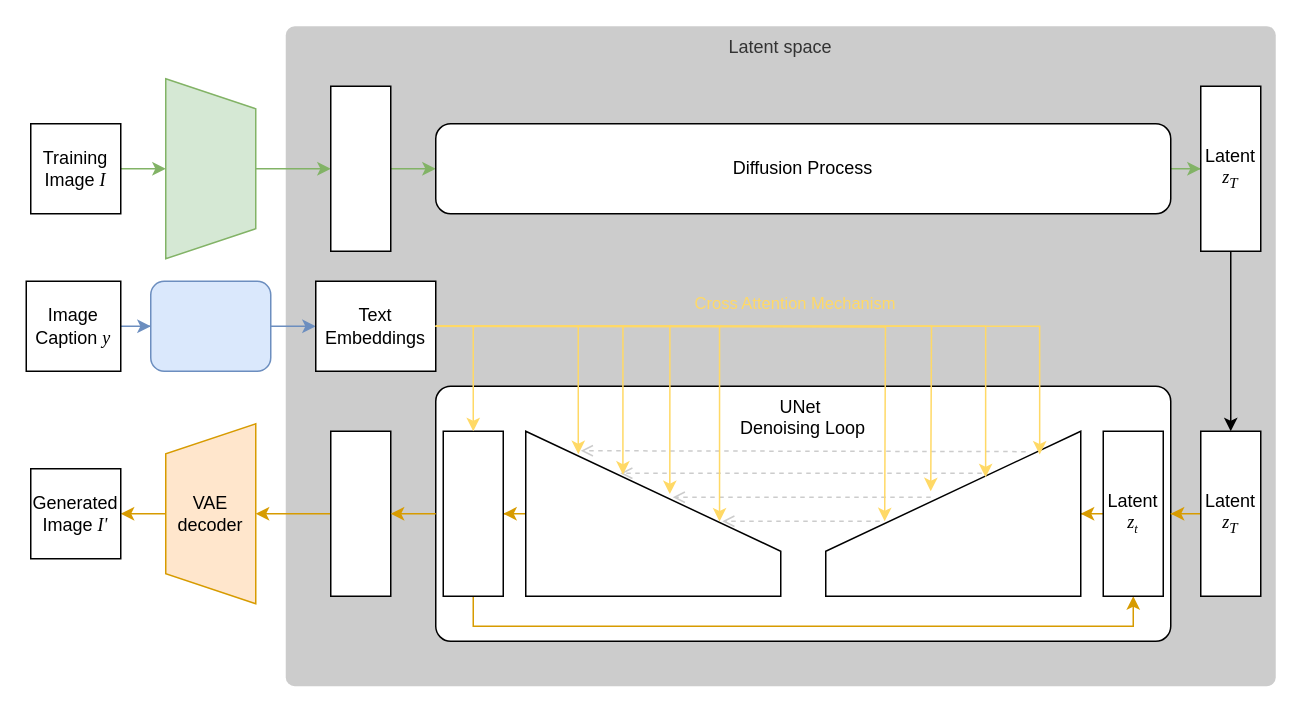
Image size: 1302x711. Some labels were removed from this diagram. Here are the shapes that lost their labels. From the top down, the centre of each, then its label:
(x=210, y=168): VAE encoder
(x=360, y=168): Latent z 0
(x=210, y=325): Text encoder
(x=360, y=513): Latent z' 0
(x=472, y=513): Latent z t-1
